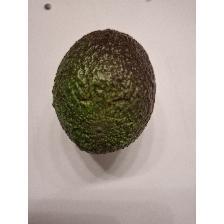Avocado: (50, 26, 160, 160)
